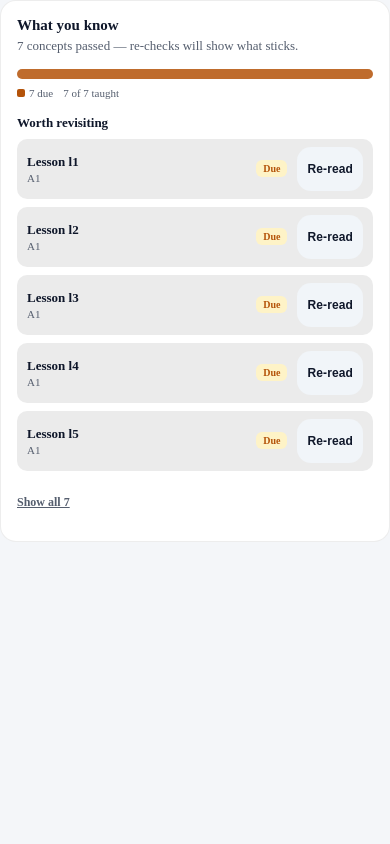
Test: the card › caps the list and expands on request
Expected: the number of elements with test id "concept-row" is 5, [17,139,373,199]; [17,207,373,267]; [17,275,373,335]; [17,343,373,403]; [17,411,373,471]
Step 1. Click the button with test id "concept-map-more" → {"x": 43, "y": 503}, box [17,481,70,525]
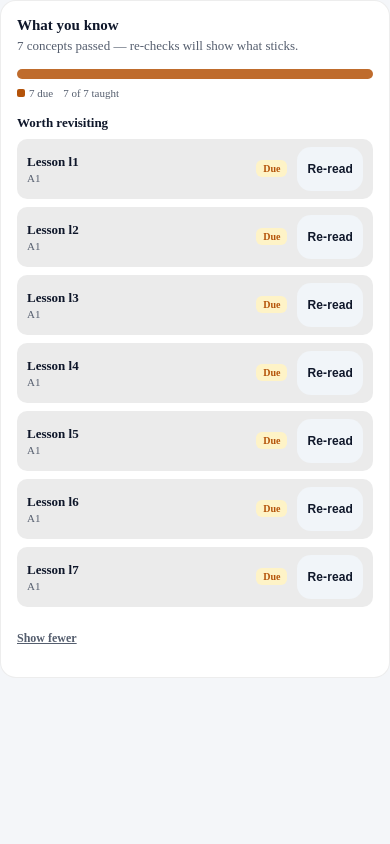
Now the number of elements with test id "concept-row" is 7
